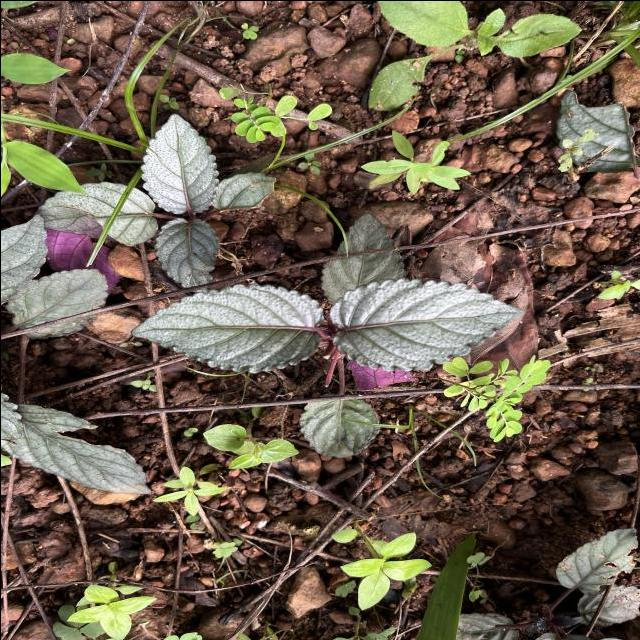Hemigraphis colorata: (324, 276, 526, 374), (127, 281, 326, 375), (32, 179, 162, 249), (318, 210, 408, 304), (2, 266, 110, 340), (296, 390, 381, 460), (152, 216, 220, 290), (0, 212, 50, 307)
